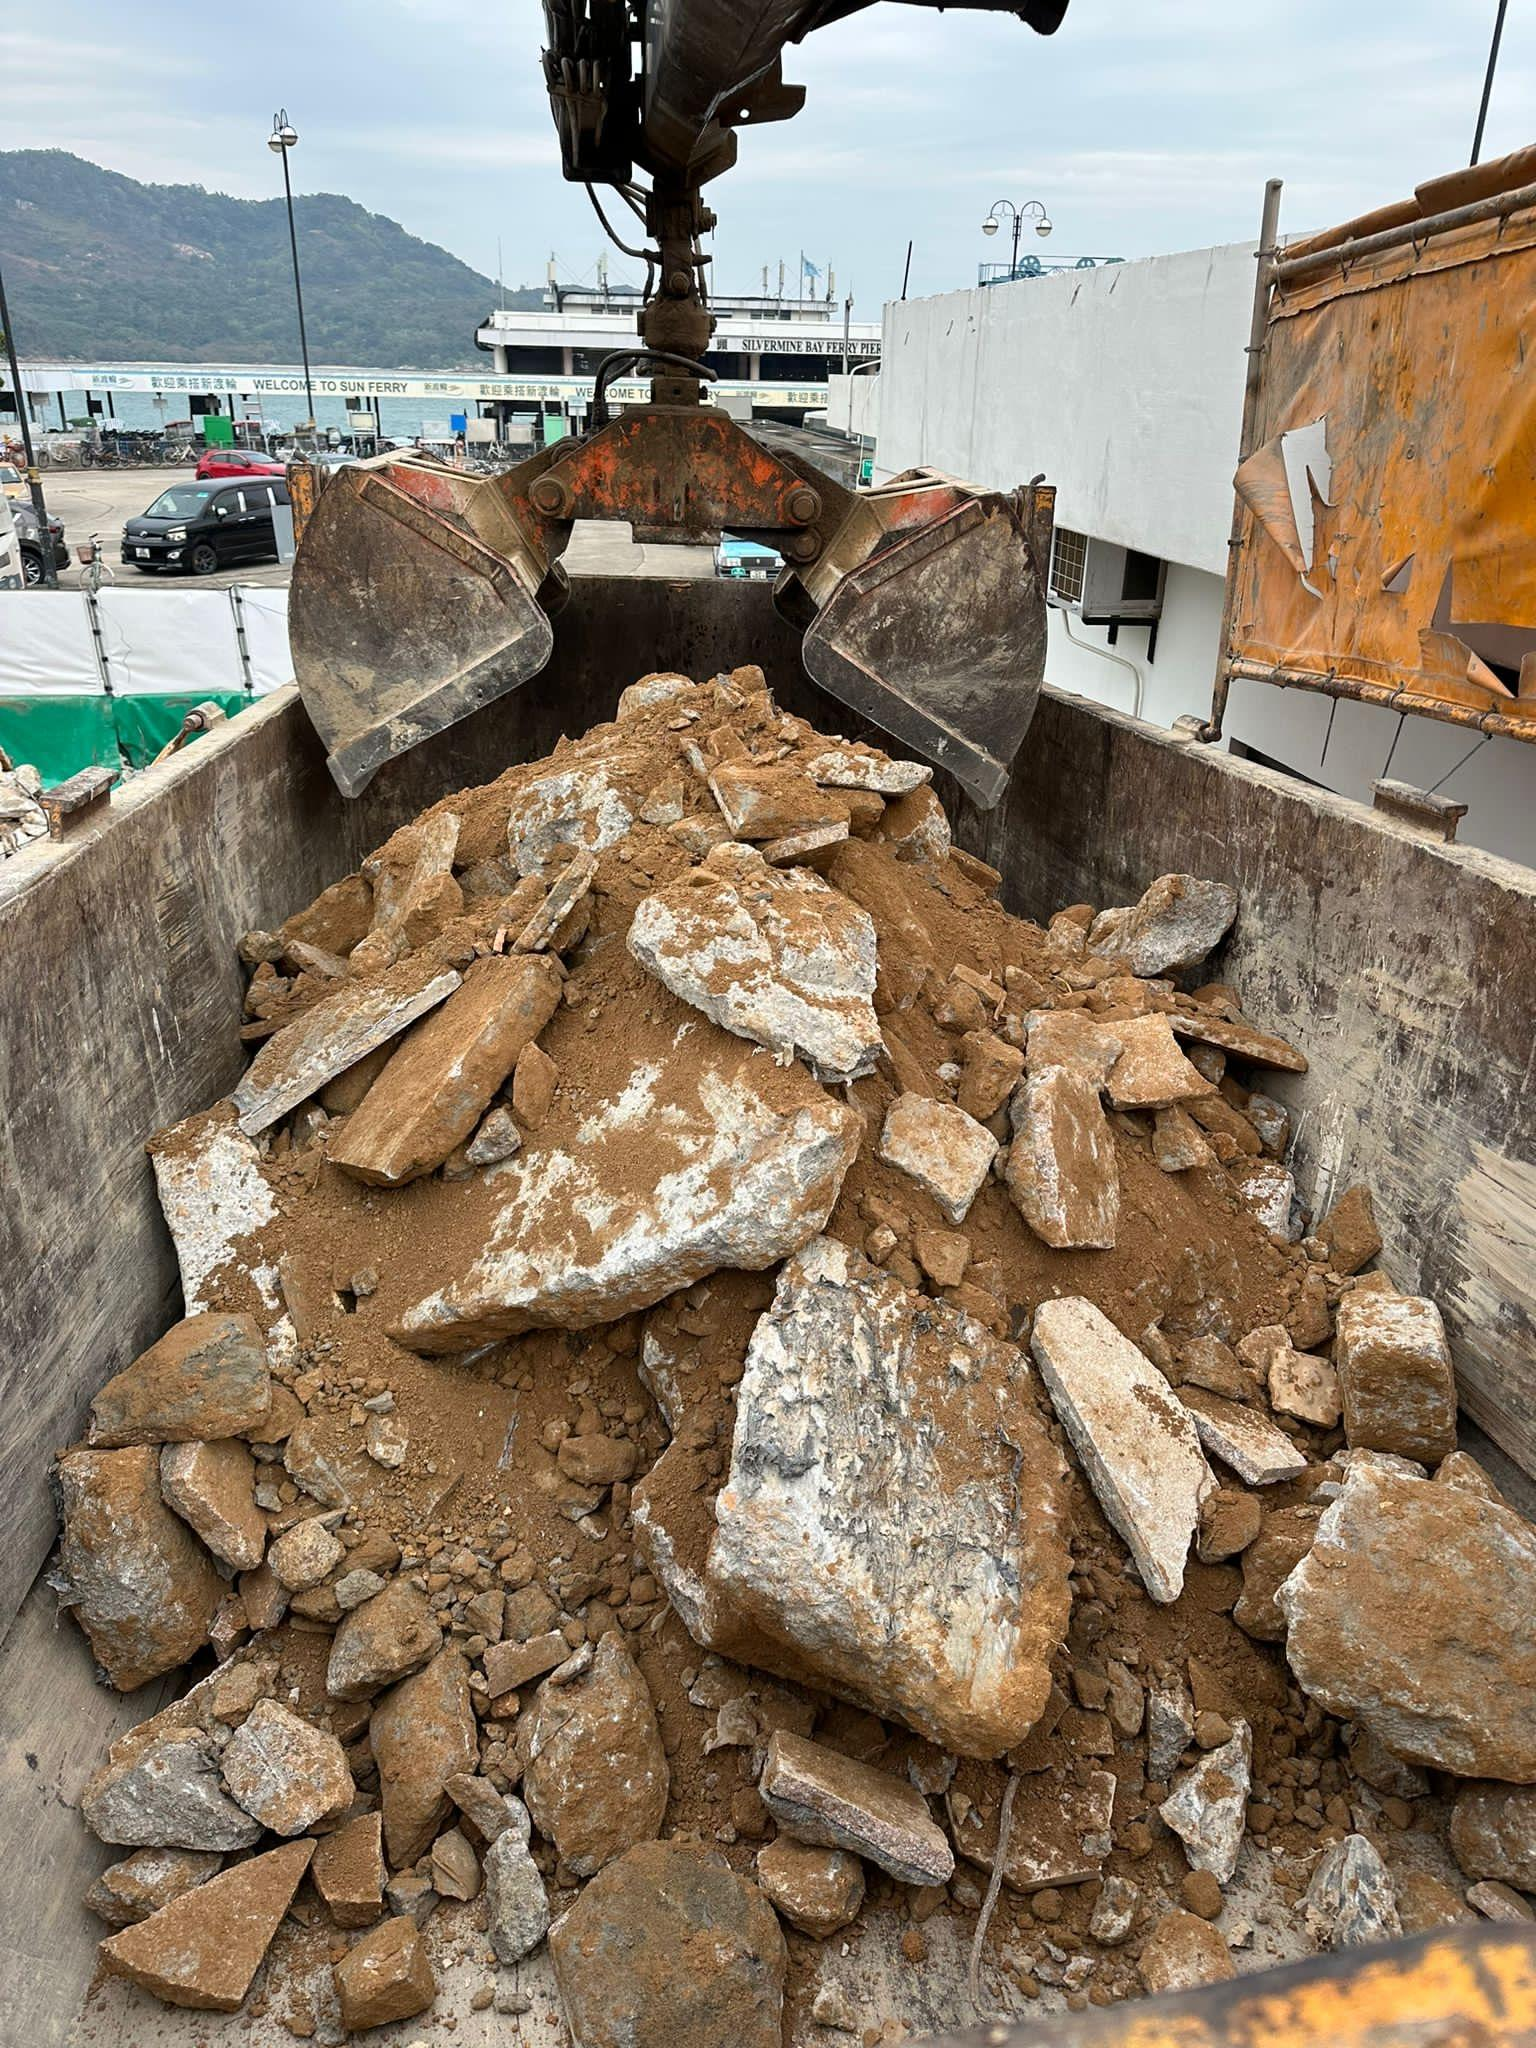dirt: (35, 661, 1533, 2045)
stone: (631, 1232, 1076, 1759), (1273, 1451, 1534, 1784), (624, 837, 886, 1084), (1028, 1290, 1217, 1605), (323, 947, 566, 1187), (545, 1837, 787, 2045), (47, 1440, 236, 1693), (95, 1835, 315, 2011), (755, 1725, 957, 1887), (84, 1306, 273, 1447), (1000, 1061, 1121, 1250)
